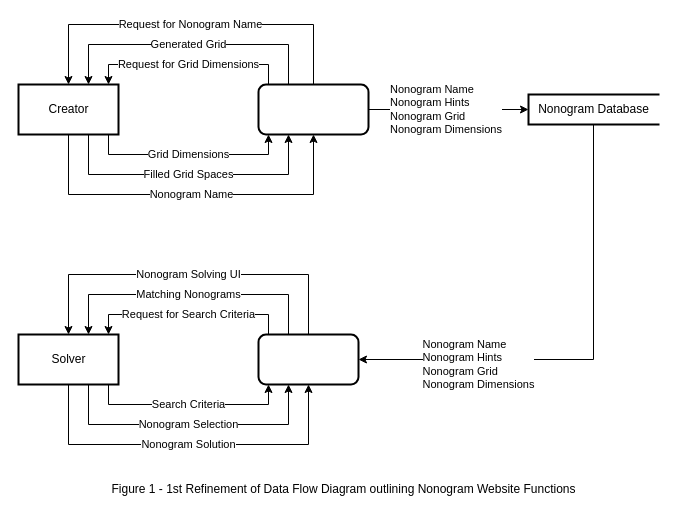
Some shapes in this 676 by 522 pixel diagram are drawn without their labels. Here are the shapes that lost their labels. From the top down, the centre of each, then its label:
point 313,109: Create Nonogram
point 308,359: Solve Nonogram
